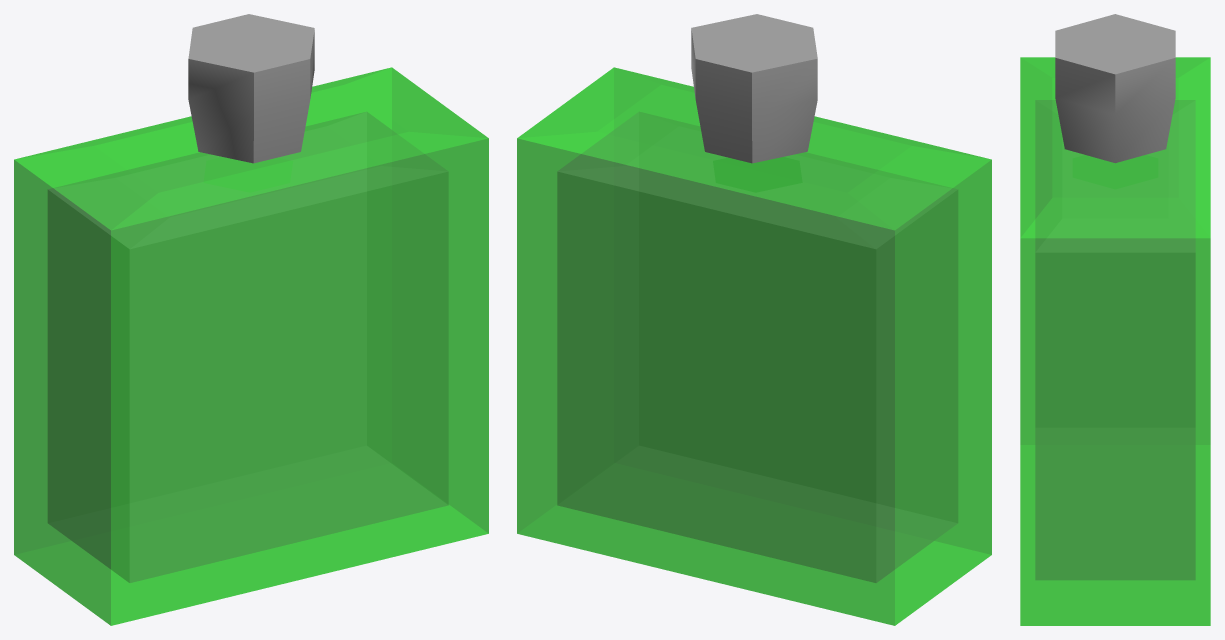
File: SquarePotion.fbx
The picture shows the model from 3 angles, left to right: view 1: azimuth 30°, elevation 25°; view 2: azimuth 150°, elevation 25°; view 3: azimuth 270°, elevation 25°; orthographic projection.
Visible parts, largest first — view 1: pCube4, pCube5; view 2: pCube4, pCube5; view 3: pCube4, pCube5.
Part boxes in pixels (x1,y1,x2,y2): pCube4: (14,14,488,625); pCube5: (48,112,448,582); pCube4: (517,14,991,625); pCube5: (557,112,957,582); pCube4: (1020,14,1210,625); pCube5: (1035,100,1195,579).
Bounding box in the file's own units: 0.0523 × 0.0663 × 0.0233.
